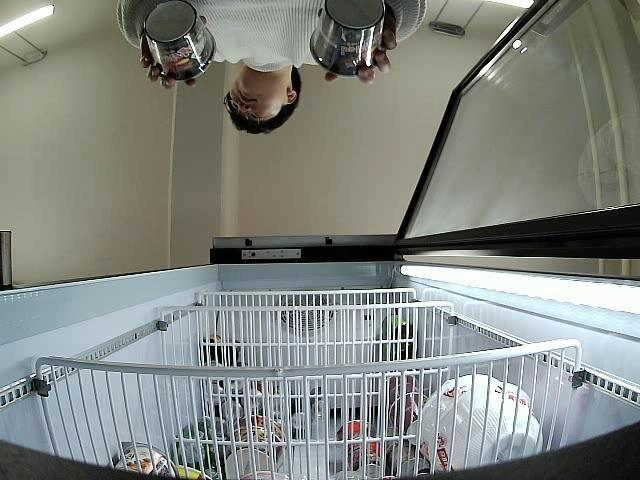08_buldak_S: (310, 0, 387, 76), (145, 0, 215, 81)
